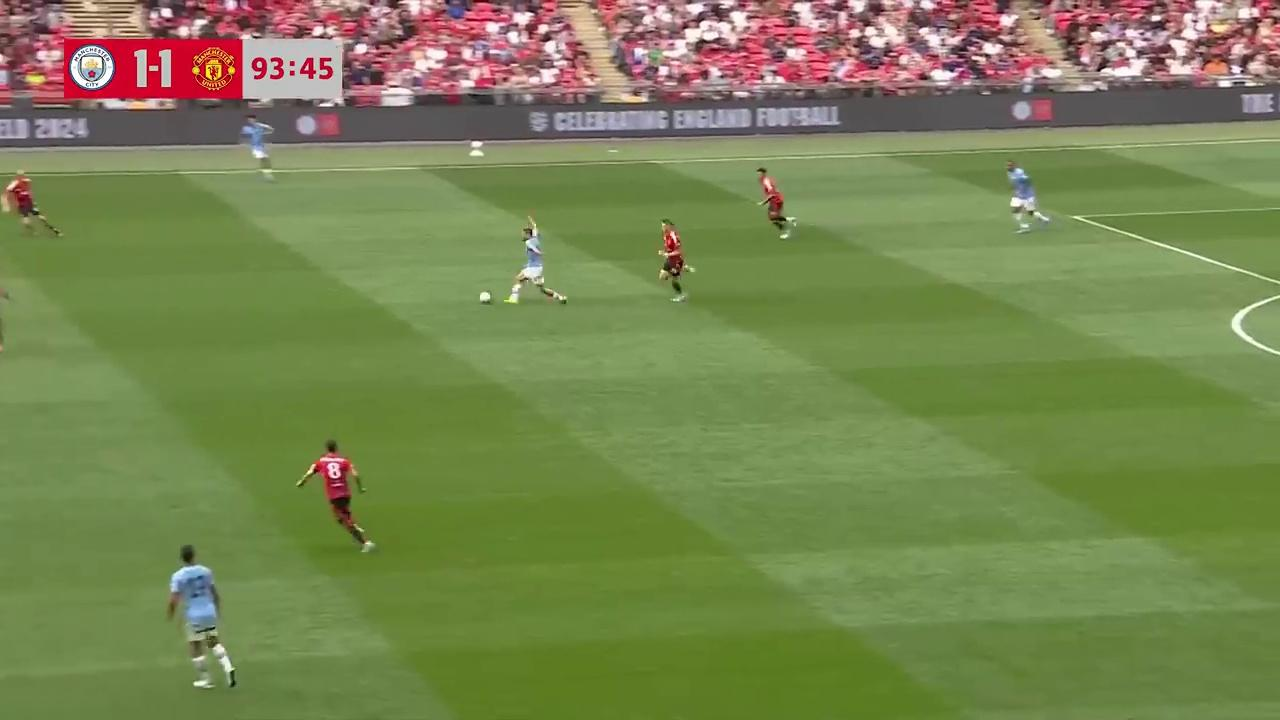ball: (478, 287, 492, 305)
player: (167, 544, 241, 691), (298, 438, 376, 553), (505, 214, 564, 305), (1, 171, 64, 237), (656, 221, 695, 303), (1005, 159, 1045, 229), (757, 168, 793, 239), (245, 119, 273, 179), (0, 263, 11, 364)
